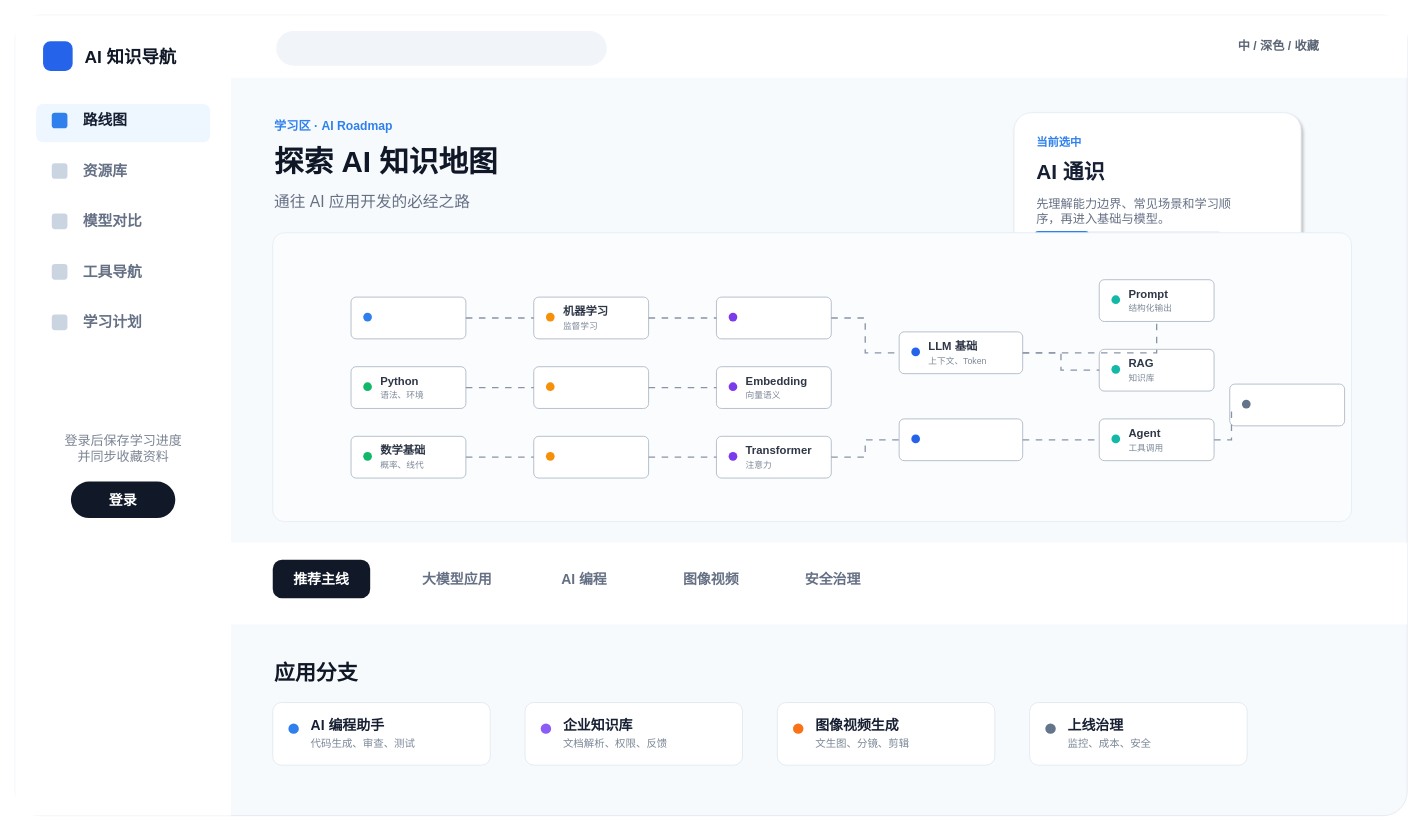
This 1422x831 diagram has some shape labels left out. Here are the shapes that lost their labels. From the top down, the centre of each, then its label:
the point at 441,47: 搜索学习节点、课程、工具...
the point at 408,317: AI 通识 概念、边界
the point at 773,317: 神经网络 层、反传
the point at 591,387: 训练评估 指标、泛化
the point at 1287,404: 上线治理 监控、安全
the point at 591,456: 无监督学习 聚类、降维
the point at 960,439: 微调与评测 SFT、LoRA
